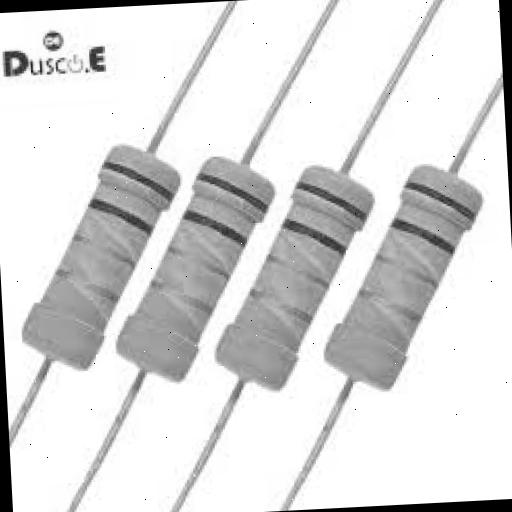RESISTOR: (68, 143, 306, 398), (301, 143, 508, 423), (196, 140, 426, 388), (0, 140, 225, 354)
